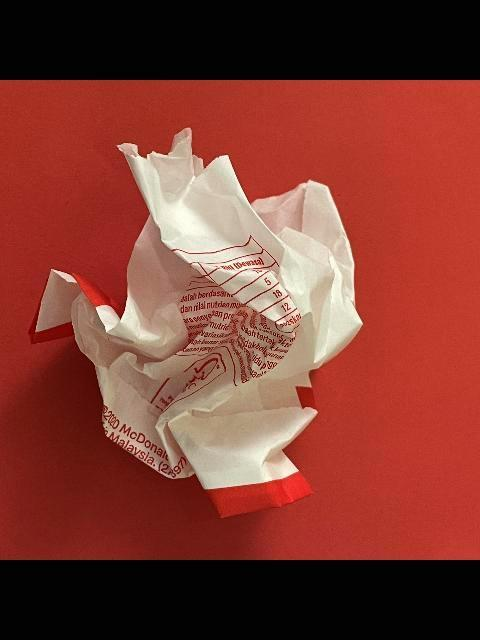paperbag: (25, 125, 366, 521)
